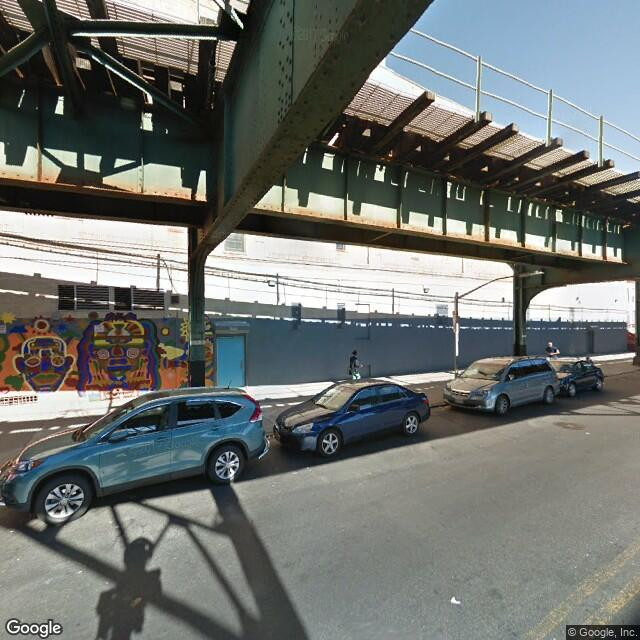litter: (450, 598, 462, 606), (585, 431, 591, 437)
